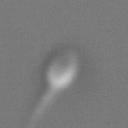normal: (14, 86, 55, 128)
